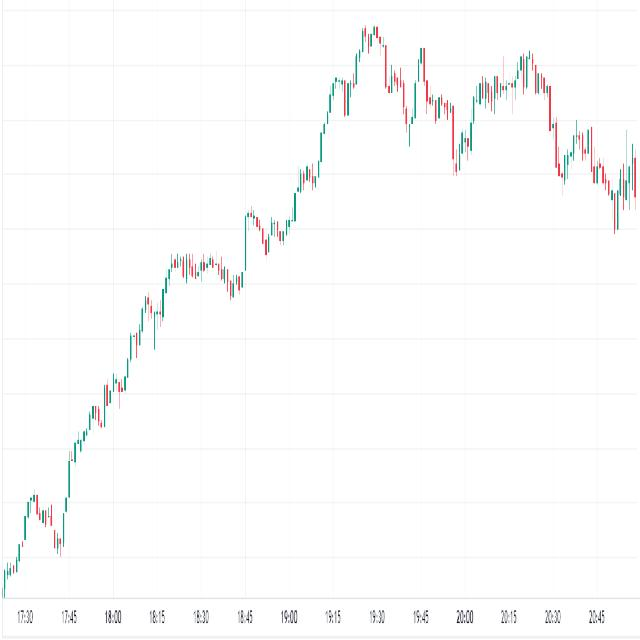Channel-up: (45, 10, 373, 586)
